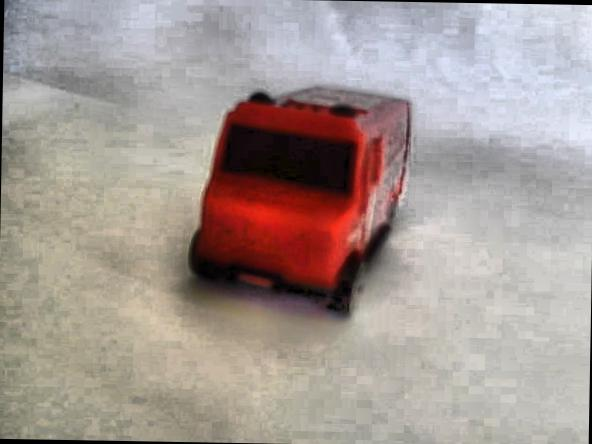fire_truck: (187, 90, 414, 320)
